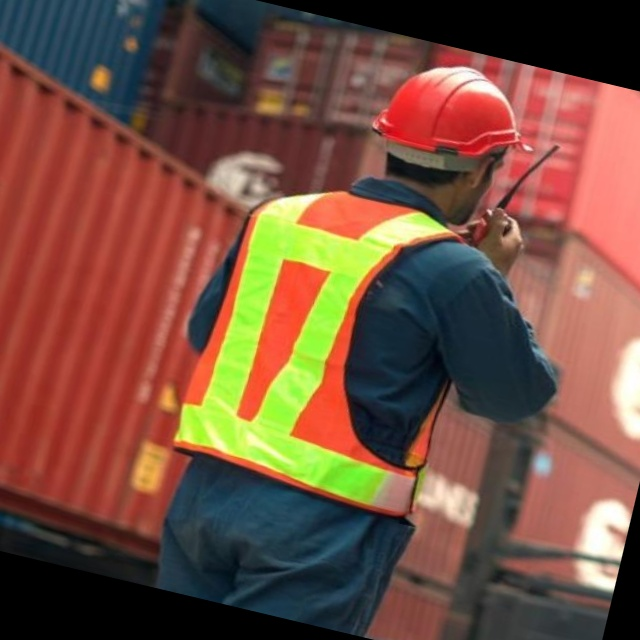Con_Casco: (357, 51, 535, 237)
Con_Chaleco: (169, 161, 503, 522)
